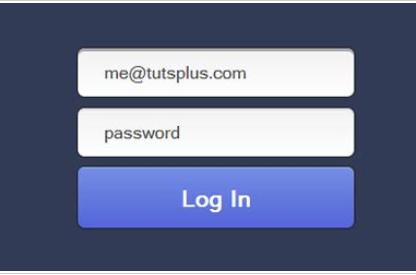button: (76, 165, 358, 230)
field: (75, 46, 355, 99), (75, 106, 355, 159)
